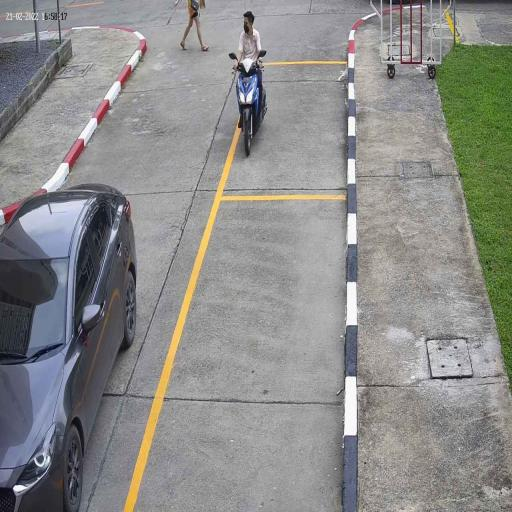car: (0, 180, 140, 512)
motorcycle: (236, 57, 260, 158)
